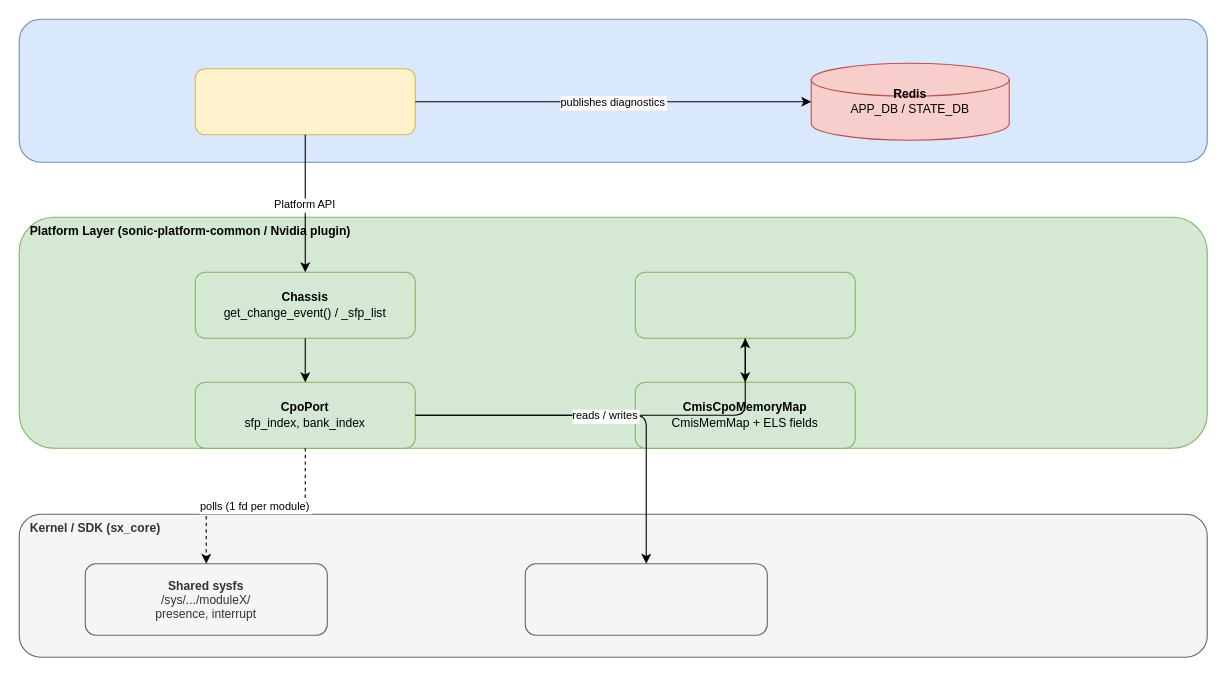
The diagram is 1227 pixels wide and 677 high, and some of its shapes have lost their labels. Here are the shapes that lost their labels. From the top down, the box of each, then its label:
(194, 68, 415, 135): xcvrd Transceiver Daemon
(18, 18, 1207, 162): SONiC Application Layer
(634, 271, 855, 338): XcvrApiFactory module type ID → API
(524, 563, 767, 635): Bank sysfs /sys/.../moduleX/bankY/ eeprom/pages
